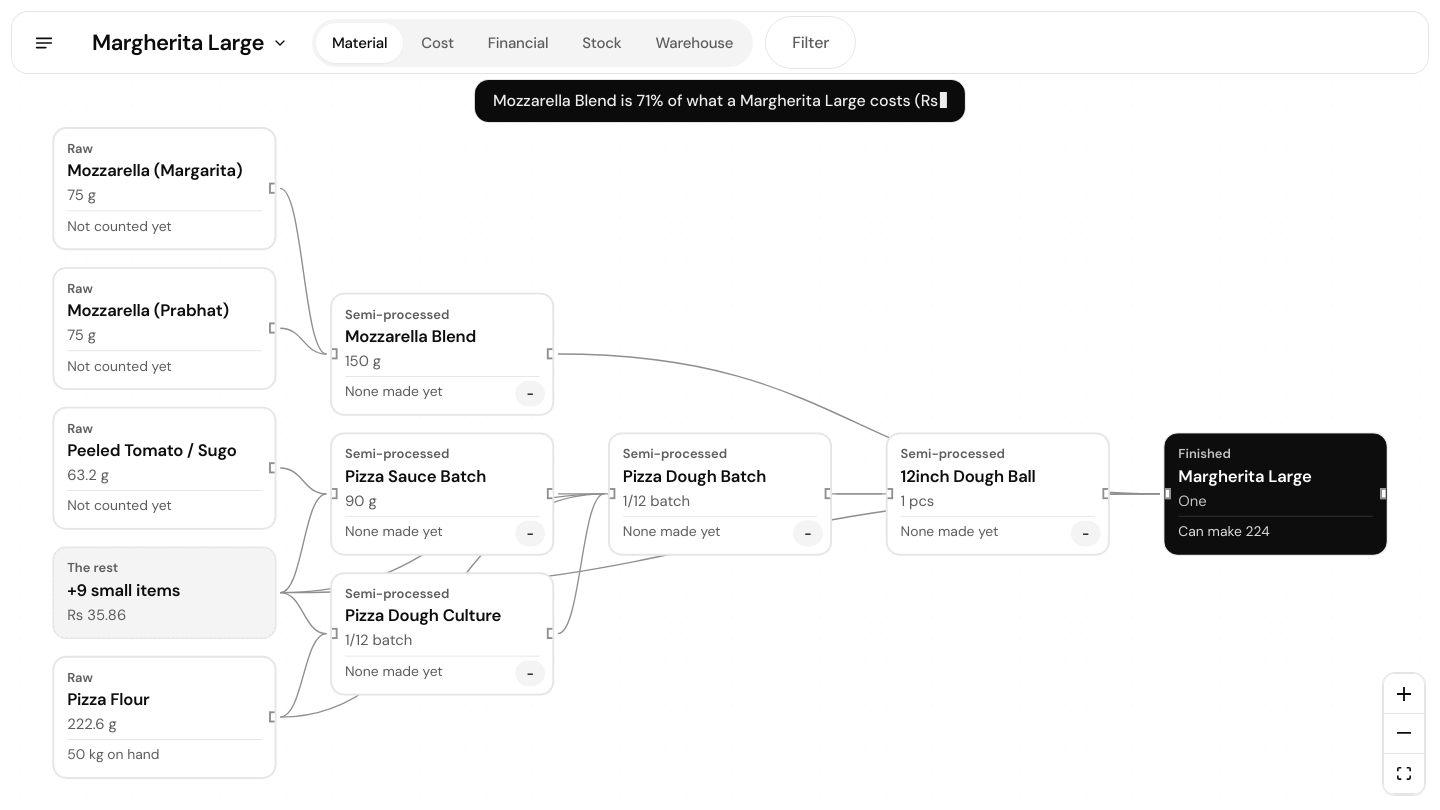
Test: Warehouse view: each ingredient says where it is kept; picking one shows its split and sets its home (SCRUM-184)
Type keys "5"
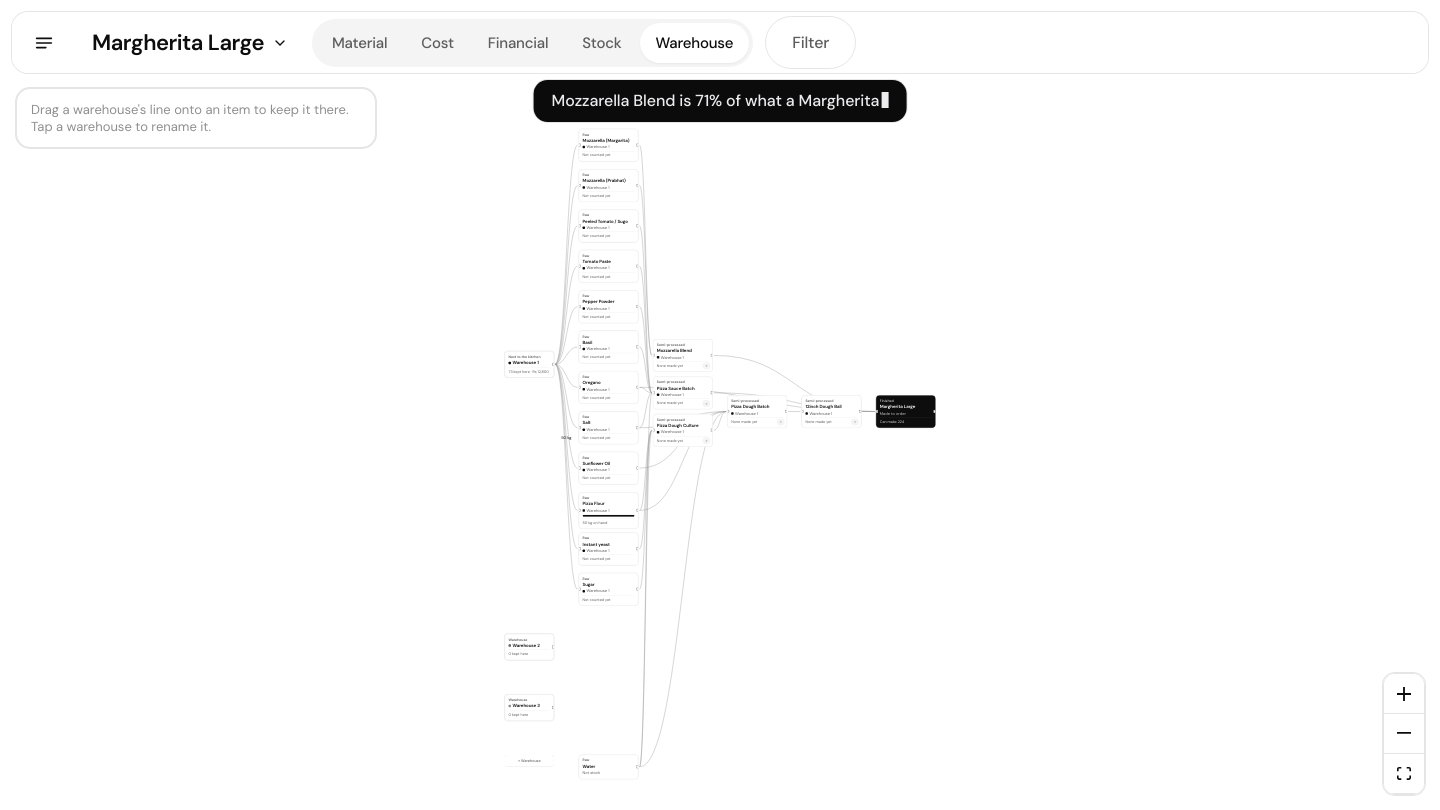
Result: the element showing "Warehouse 1" is shown at [582, 508, 609, 513]
Click the text "Pizza Flour" at [608, 510], box [579, 492, 638, 529]
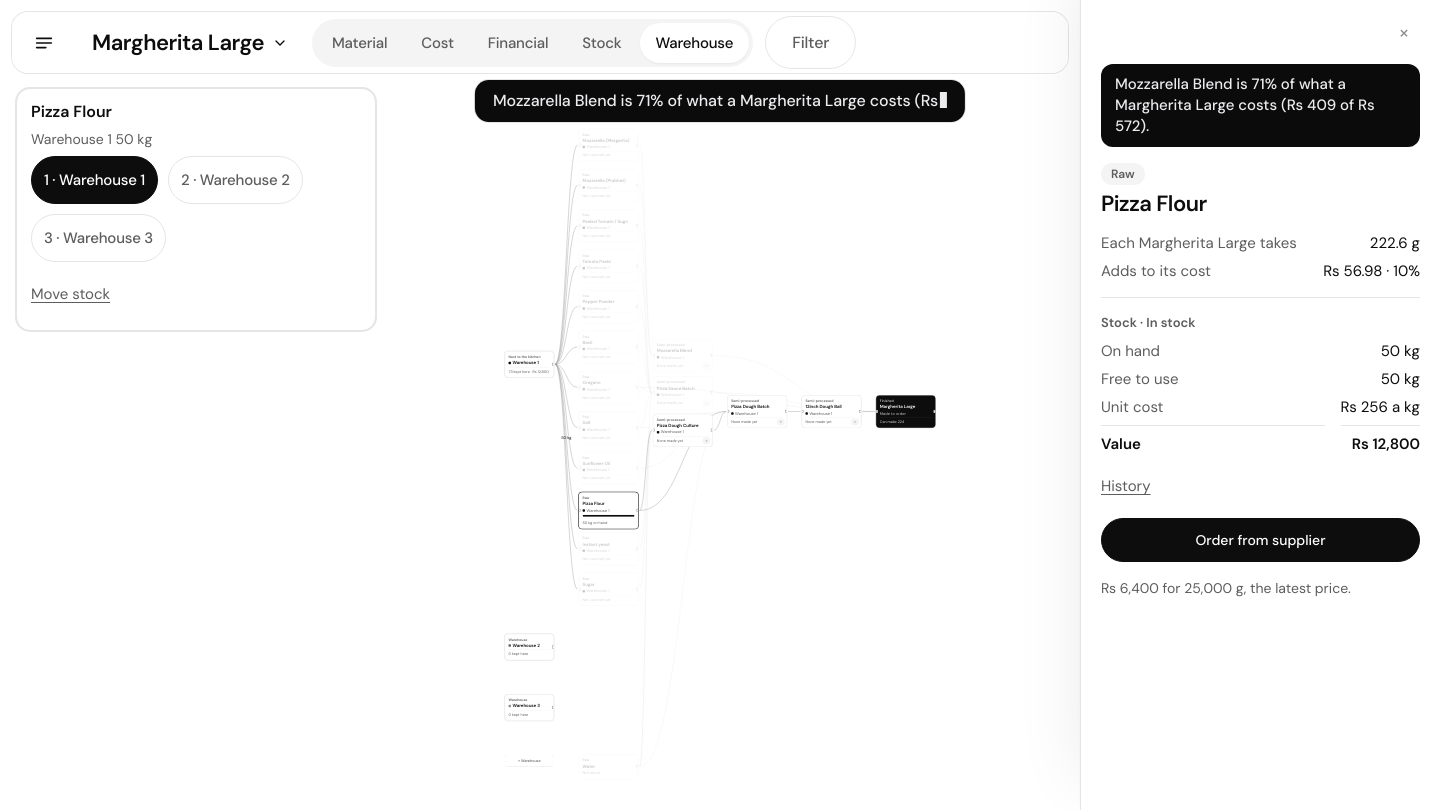
Result: the text "Warehouse 1 50 kg" is shown at [31, 130, 152, 148]
Click the button "2 · Warehouse 2" at [235, 180], box [168, 156, 303, 204]
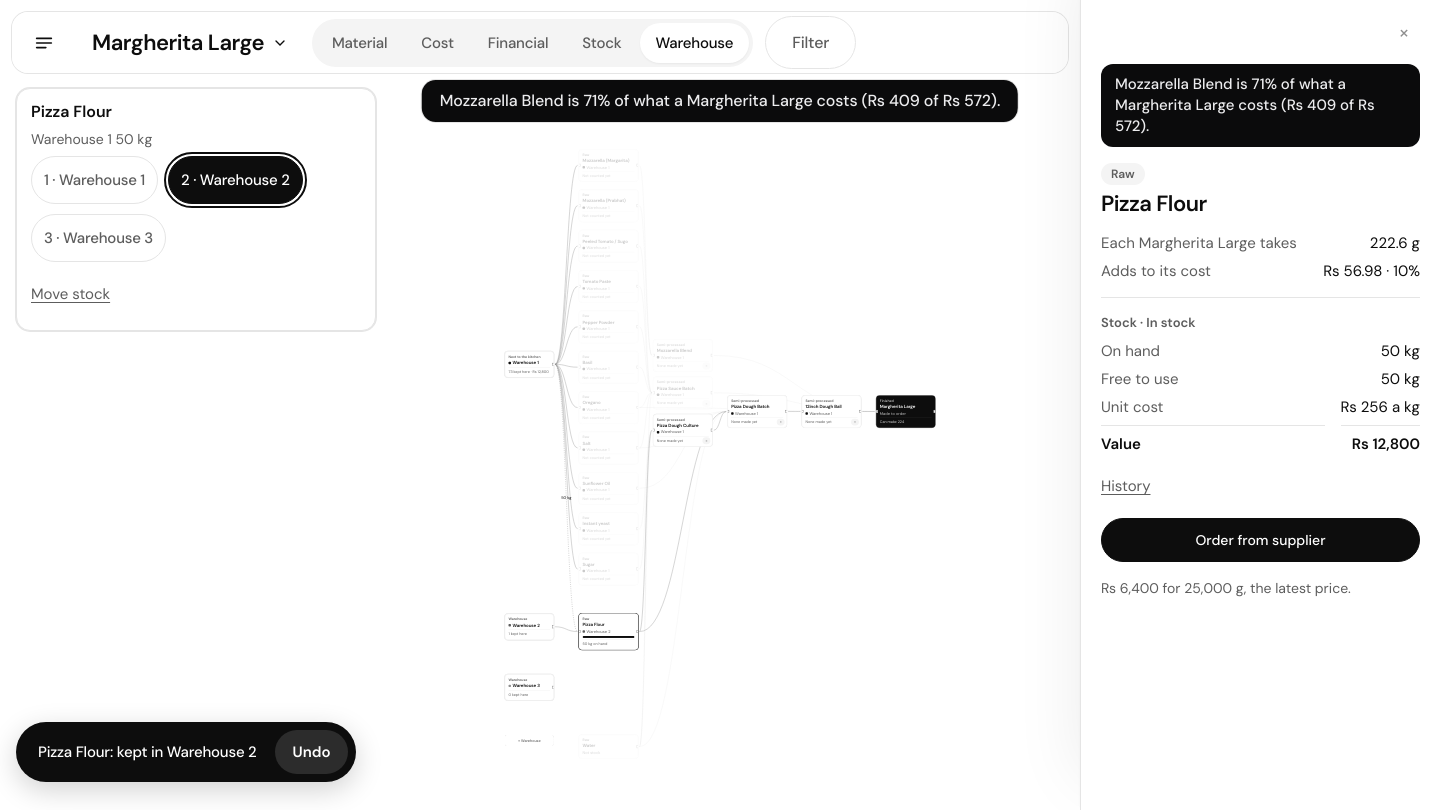
Result: the element showing "Warehouse 2" is shown at [582, 629, 610, 634]
